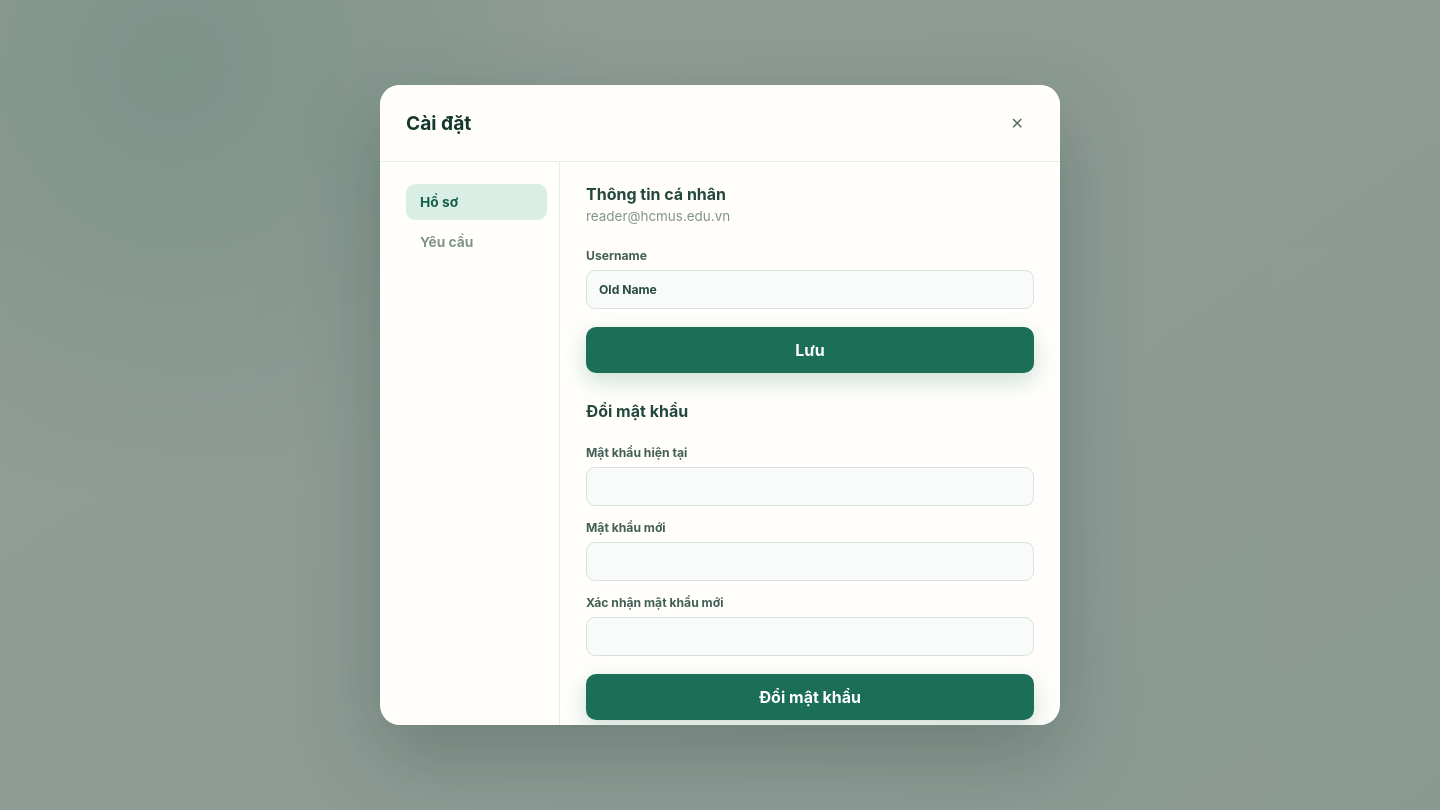
Test: SettingsModal › saves a new username
The width and height of the screenshot is (1440, 810).
Replace the text in the field labelled "Username" with "New Name" at (810, 290), box [586,270,1034,309]
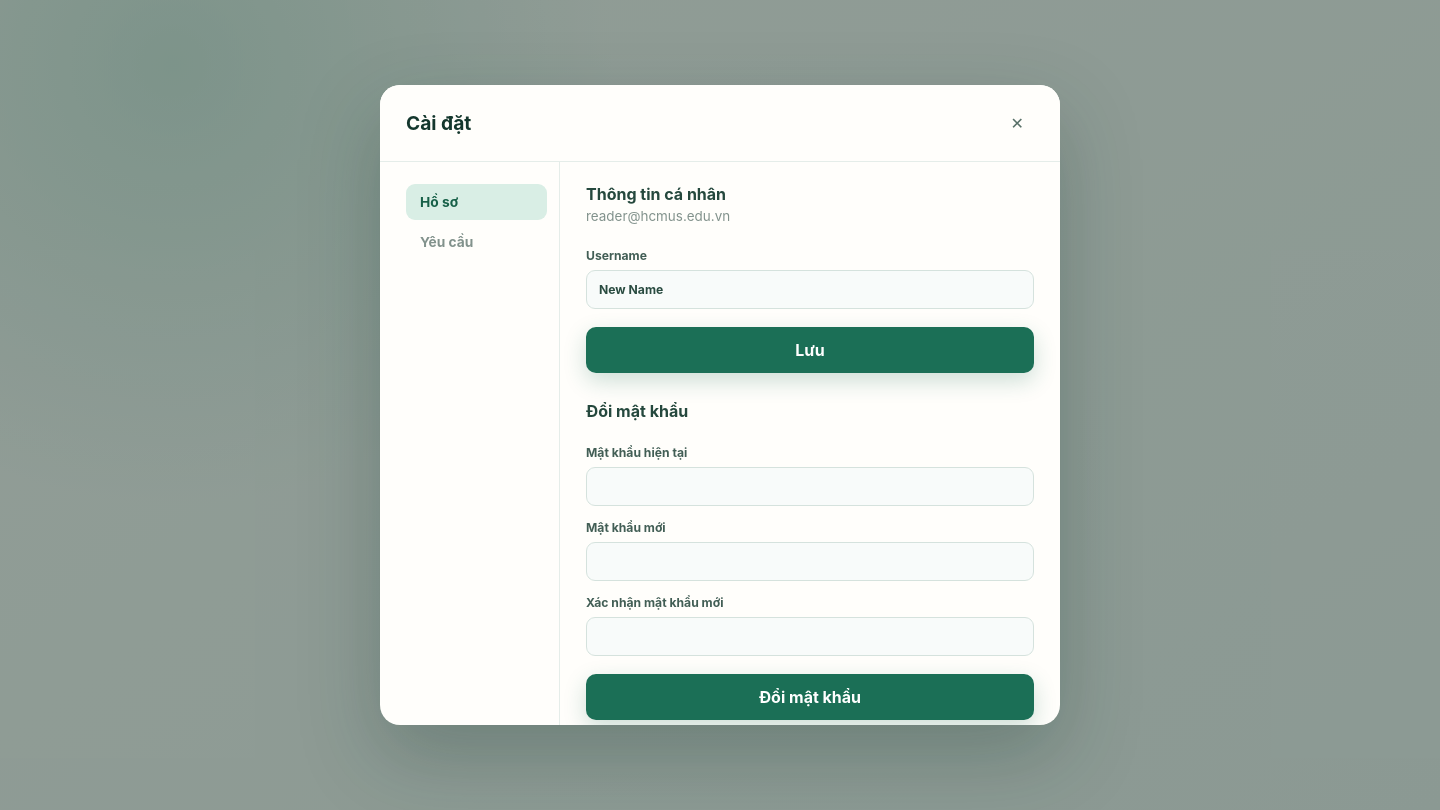
Click the button "Lưu" at (810, 350), box [586,327,1034,373]
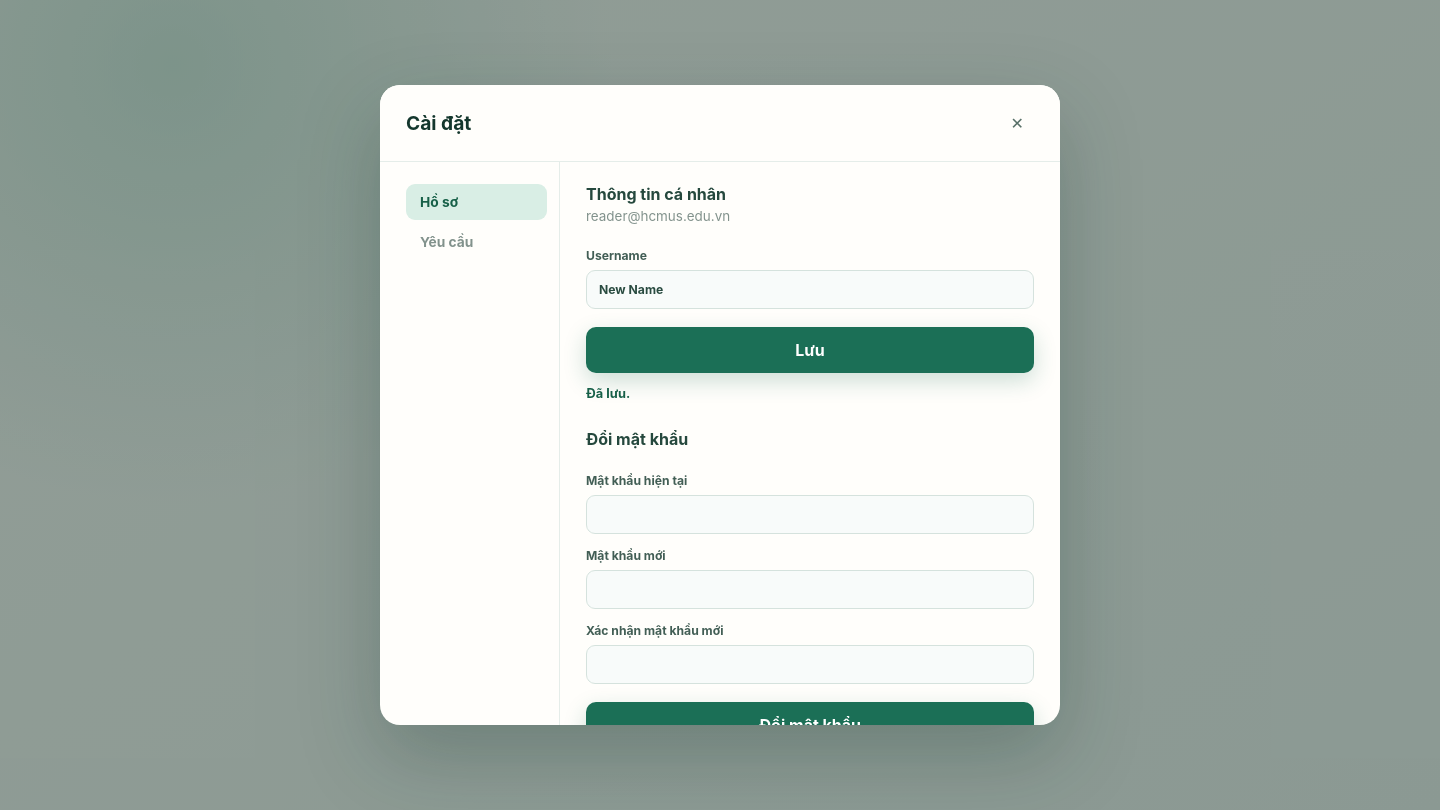
Expected: the text "Đã lưu." is shown, [586,386,630,401]
